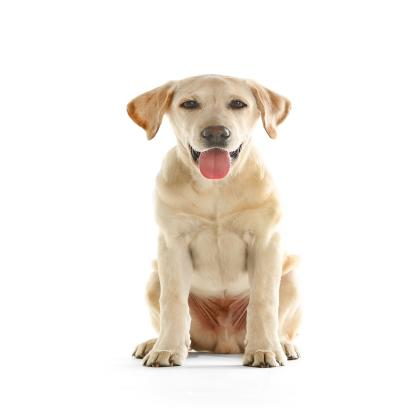Labarador Retriever: (121, 66, 307, 372)
